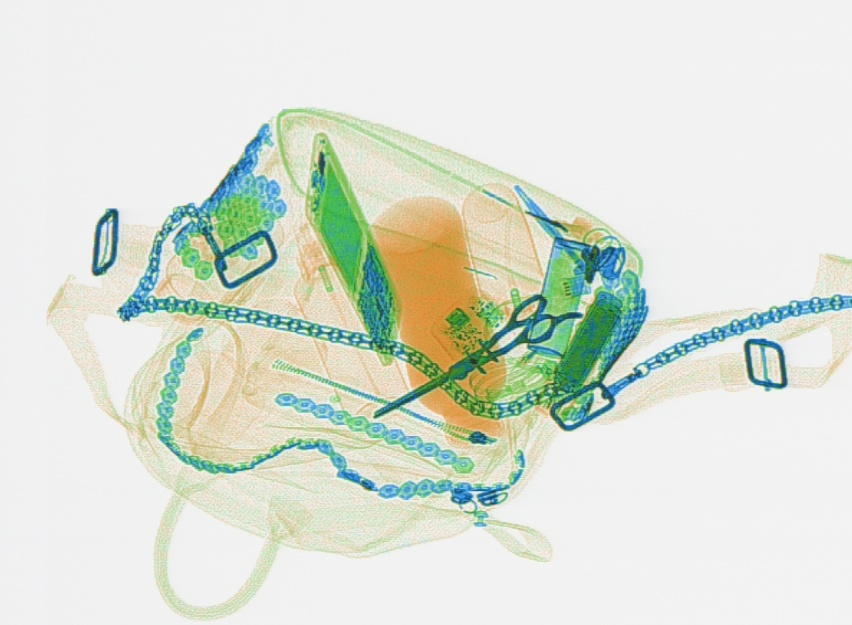powerbank: (547, 290, 623, 412)
scissors: (373, 291, 584, 420)
